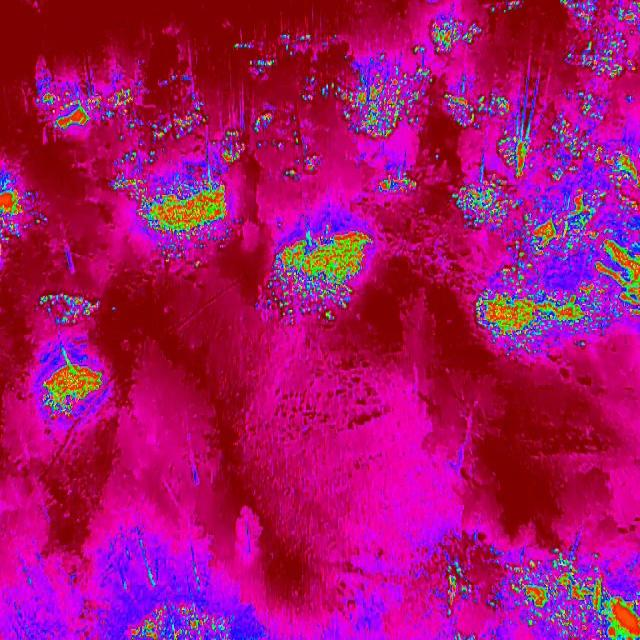fire: (453, 69, 640, 360), (101, 111, 248, 273), (430, 534, 640, 640), (238, 30, 340, 176), (31, 58, 208, 132), (262, 224, 372, 326), (33, 288, 106, 424), (328, 46, 436, 130), (552, 0, 640, 70), (128, 596, 234, 640), (0, 160, 47, 254), (423, 8, 486, 52), (372, 172, 424, 204)
